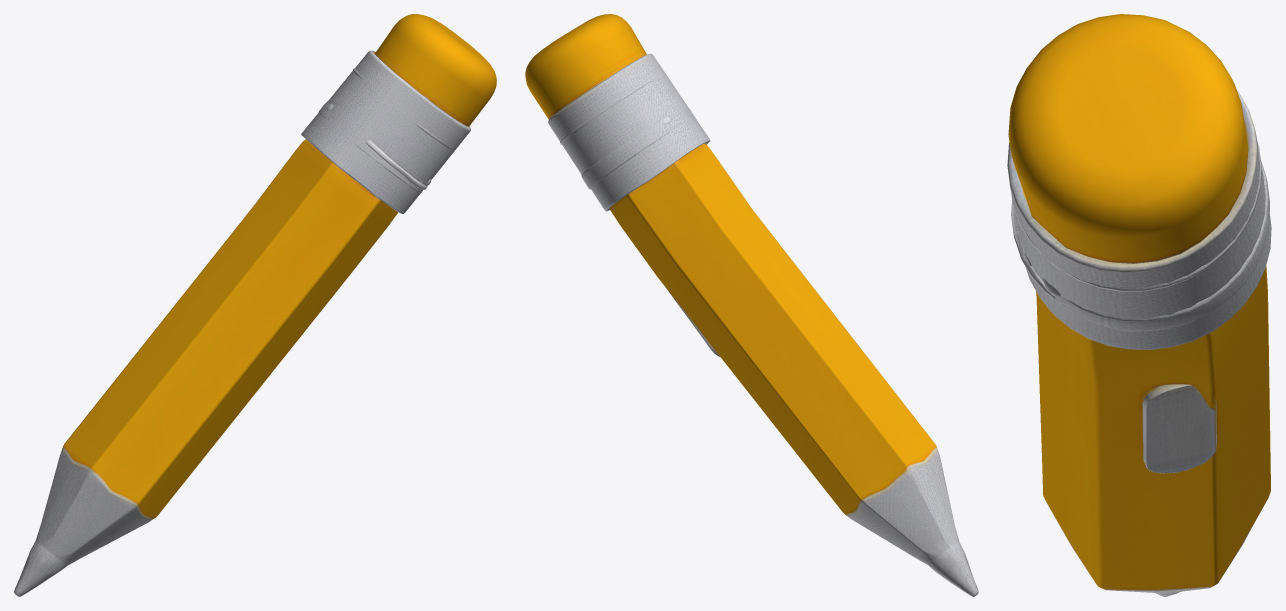
File: pencil.glb
3 renders of one model, left to right at view 1: azimuth 30°, elevation 25°; view 2: azimuth 150°, elevation 25°; view 3: azimuth 270°, elevation 25°, orthographic. The views are drawn at different scales.
Visible parts, largest first — view 1: tripo_node_4c0ce80a-fbfd-4af6-be76-98604f08b3f3; view 2: tripo_node_4c0ce80a-fbfd-4af6-be76-98604f08b3f3; view 3: tripo_node_4c0ce80a-fbfd-4af6-be76-98604f08b3f3.
Part boxes in pixels (x1=…): tripo_node_4c0ce80a-fbfd-4af6-be76-98604f08b3f3: x1=14, y1=14, x2=496, y2=596; tripo_node_4c0ce80a-fbfd-4af6-be76-98604f08b3f3: x1=525, y1=14, x2=978, y2=596; tripo_node_4c0ce80a-fbfd-4af6-be76-98604f08b3f3: x1=1007, y1=14, x2=1271, y2=596.
Bounding box in the file's own units: 0.9961 × 1 × 0.2526.
1 material, 1 textured.
